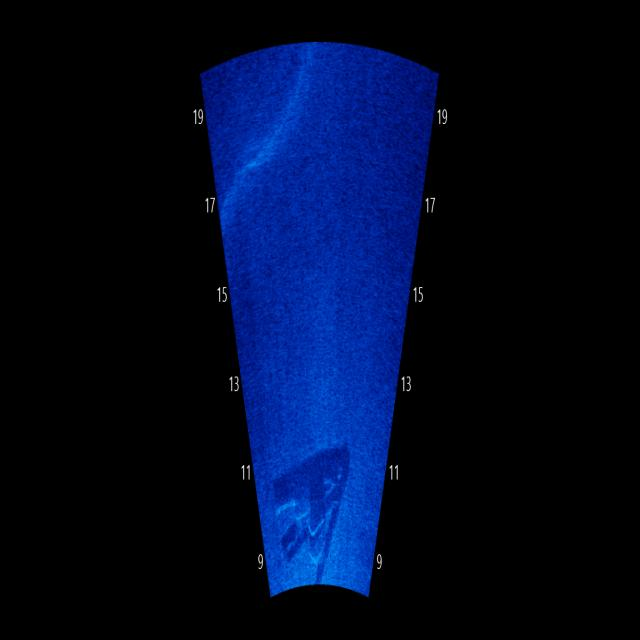triangle: (266, 398, 365, 572)
